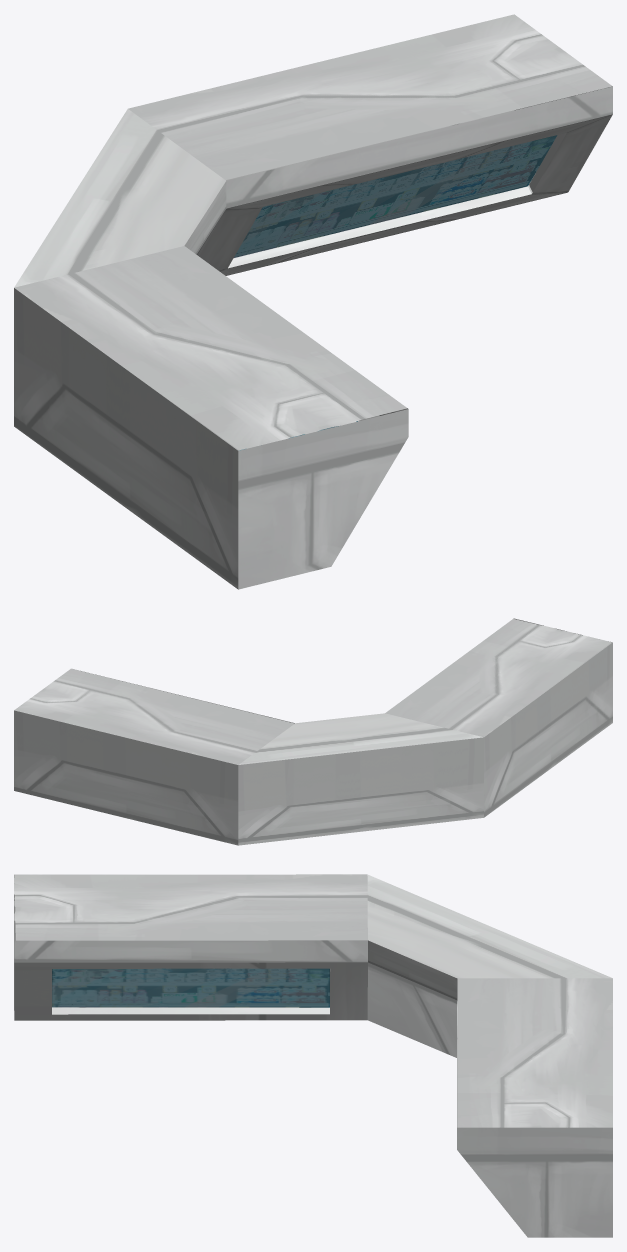
The model's file is Kitchen2.fbx.
3 renders of one model, top to bottom at view 1: azimuth 30°, elevation 25°; view 2: azimuth 150°, elevation 25°; view 3: azimuth 270°, elevation 25°, orthographic. The views are drawn at different scales.
Parts seen in each view (by area): view 1: Cube.003; view 2: Cube.003; view 3: Cube.003.
Boxes of the visible parts, box(x1,y1,x2,y2) form: Cube.003: box(14, 14, 612, 589); Cube.003: box(14, 618, 612, 845); Cube.003: box(14, 874, 612, 1237).
Size of the model in its own units: 4.95 by 4.95 by 1.
